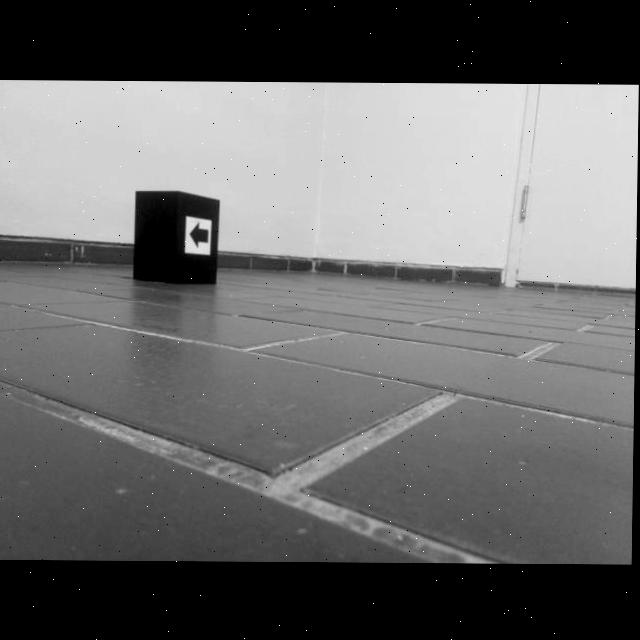LEFT: (189, 221, 209, 249)
